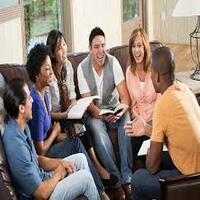person: (142, 40, 191, 94), (22, 37, 61, 92), (4, 69, 38, 128), (81, 25, 117, 77), (124, 17, 153, 70), (40, 27, 76, 68)
